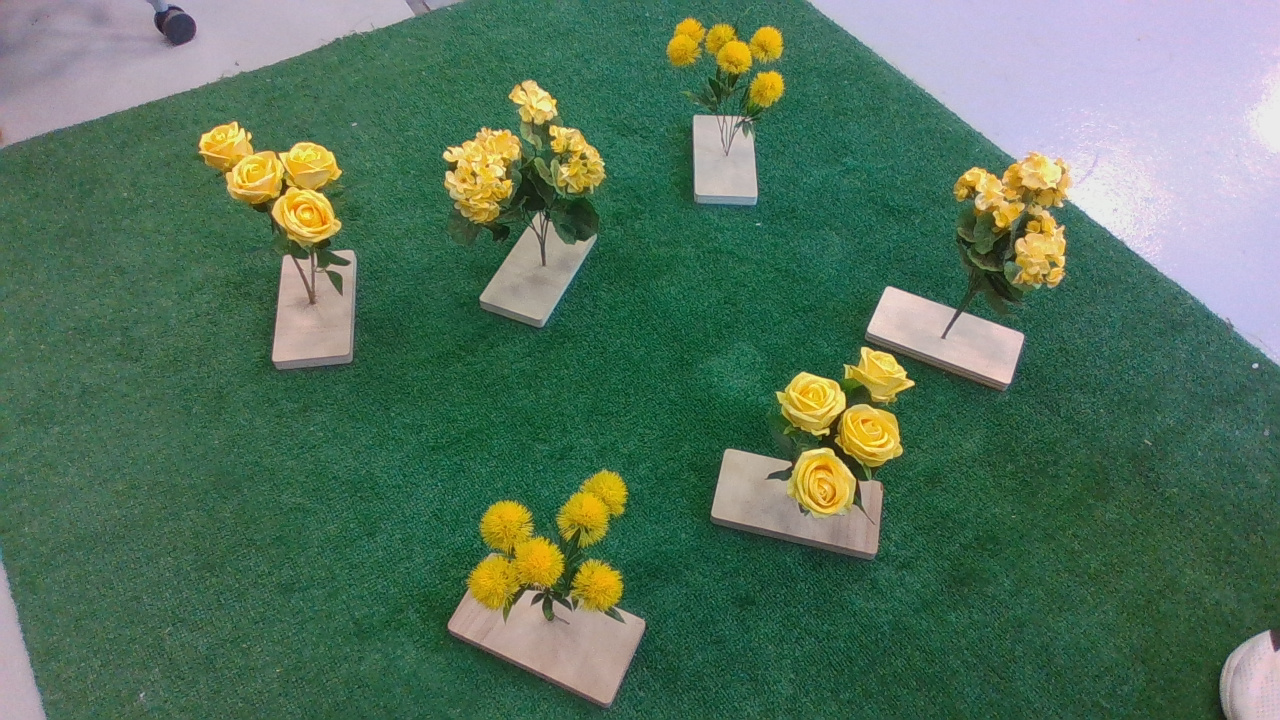dandelion: (460, 475, 646, 633), (662, 14, 796, 138)
geranium: (439, 80, 614, 258), (952, 156, 1079, 332)
rose: (196, 122, 374, 301), (779, 344, 923, 533)
